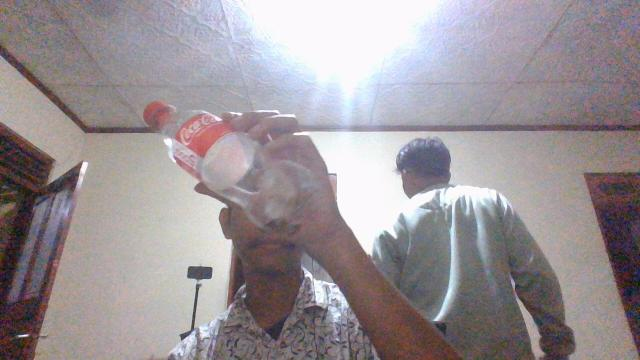coca-cola: (141, 99, 318, 238)
